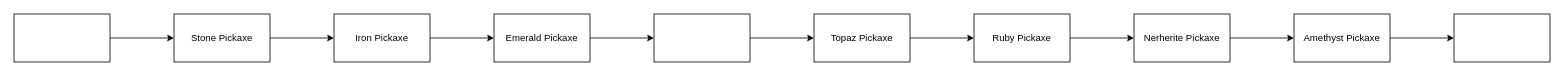
Image size: 1564x76. Some labels were removed from this diagram. The shapes that lost their labels are listed below. From the top down, each one's centre as x and y in pixels, then its label:
point (61, 37): Wood Pickaxe
point (701, 37): Diamond Pickaxe
point (1501, 37): Primordial Alloy Pickaxe
